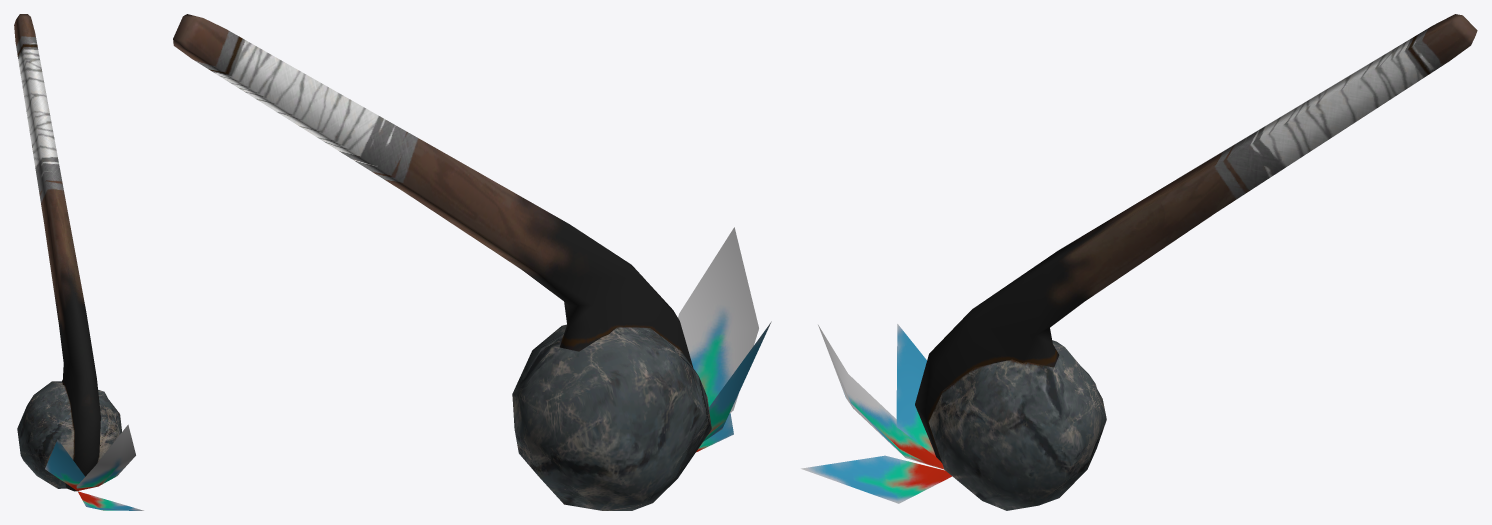
File: weapon-flintweapons.glb
3 views of the same model, side by side, from view 1: azimuth 30°, elevation 25°; view 2: azimuth 150°, elevation 25°; view 3: azimuth 270°, elevation 25° (orthographic). The views are drawn at different scales.
Size of the model in its own units: 0.305 by 0.6832 by 0.7586.
1 material, 1 textured.
